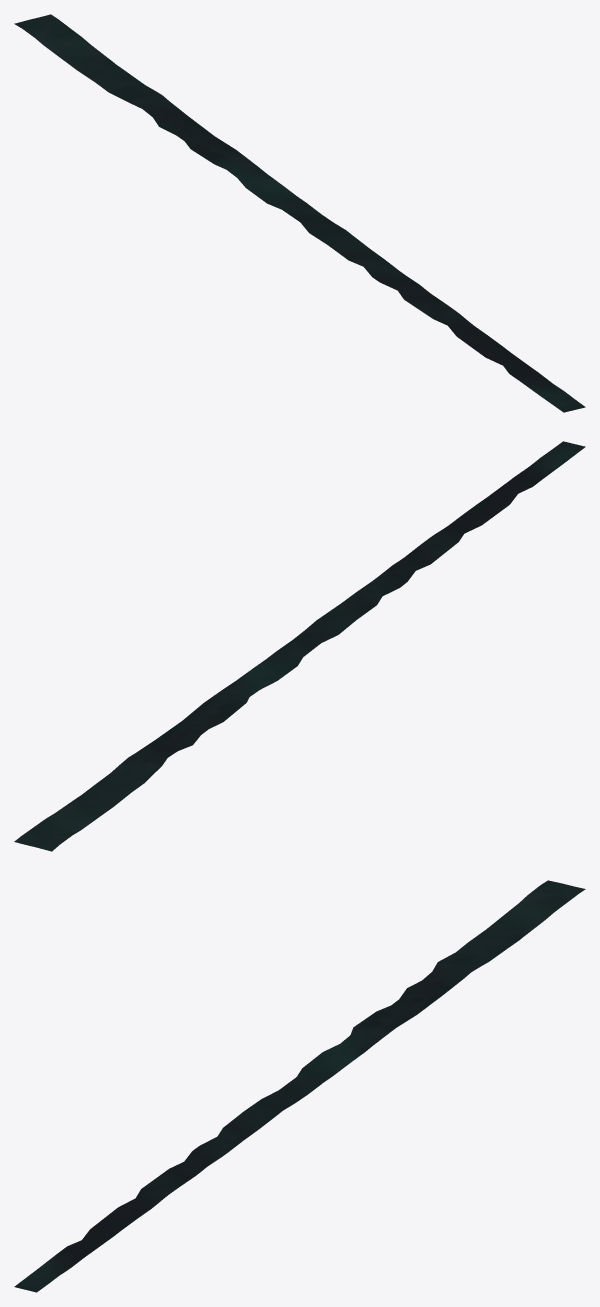
3 renders of one model, top to bottom at view 1: azimuth 30°, elevation 25°; view 2: azimuth 150°, elevation 25°; view 3: azimuth 330°, elevation 25°, orthographic. The views are drawn at different scales.
Size of the model in its own units: 8.34 by 0.8628 by 209.
Materials: 1 (1 with a texture image).
